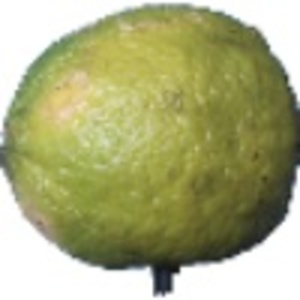limão: (1, 4, 300, 297)
